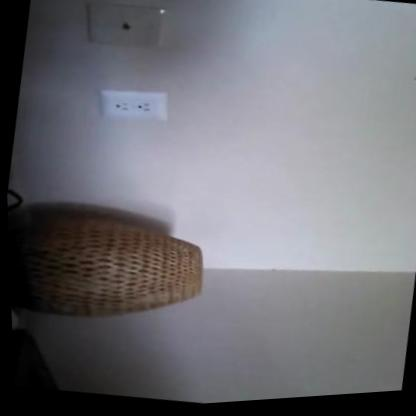OUTLET: (97, 81, 172, 126)
